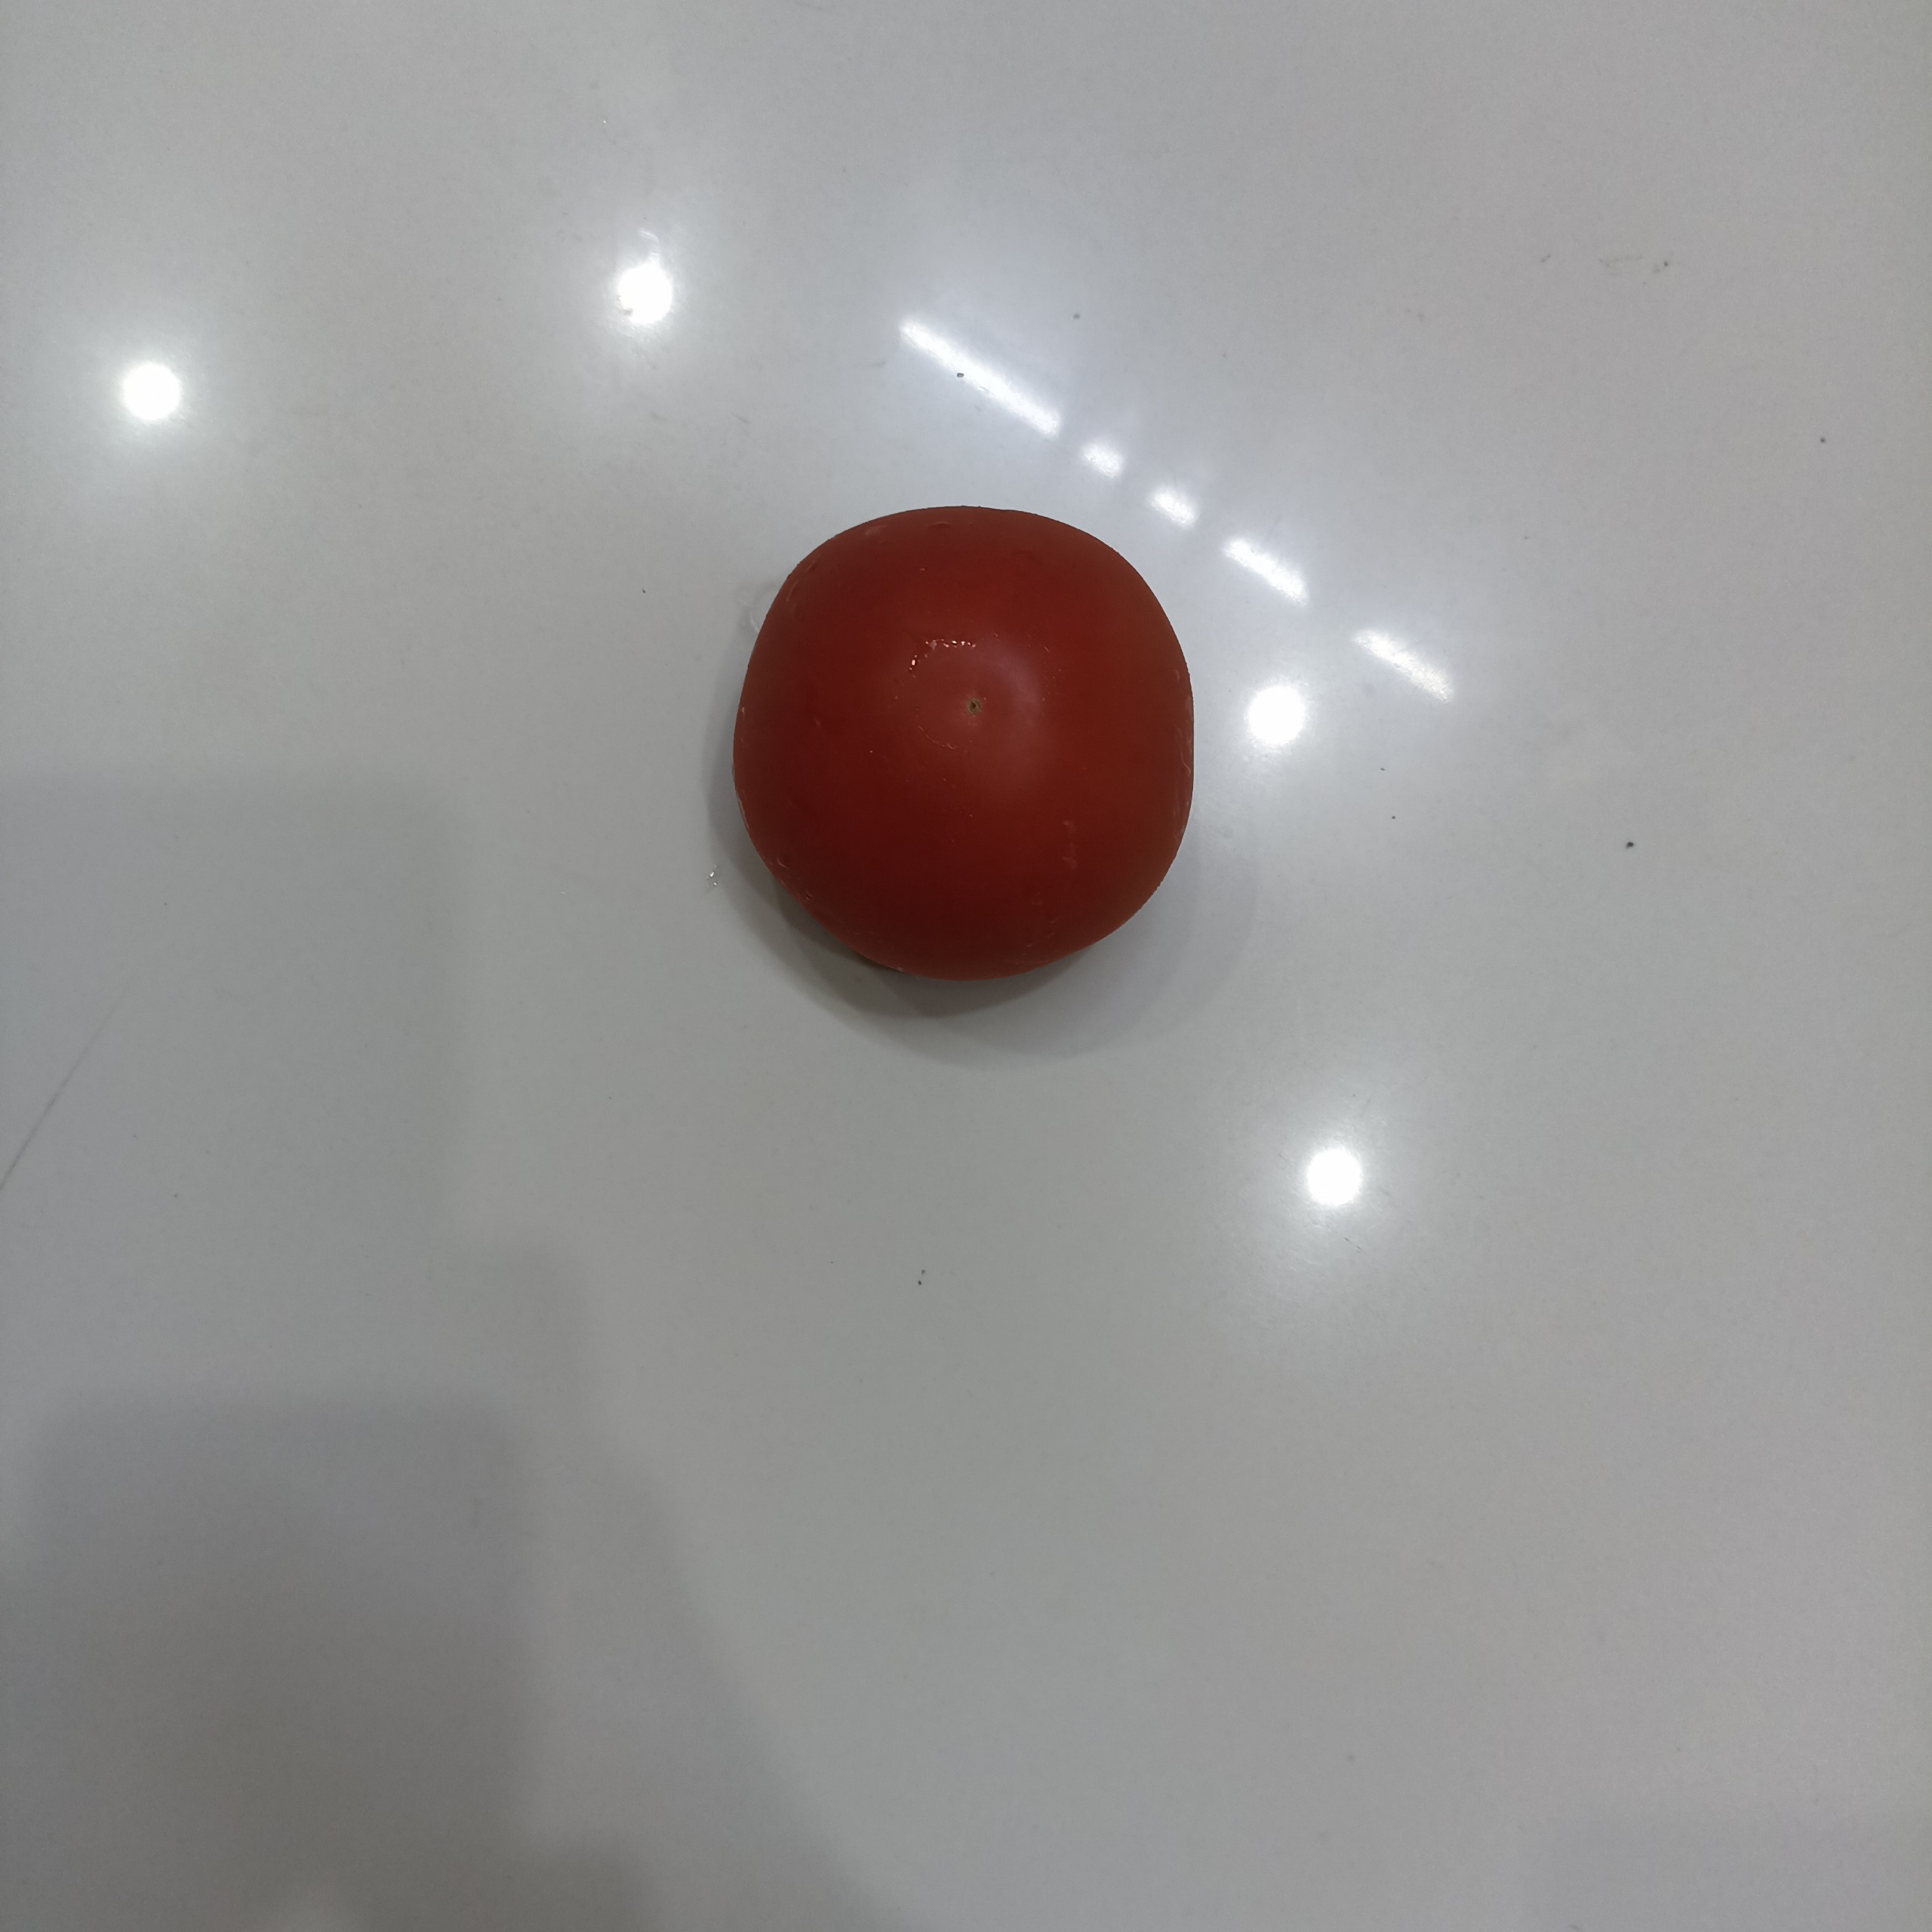Ca chua: (728, 498, 1198, 985)
